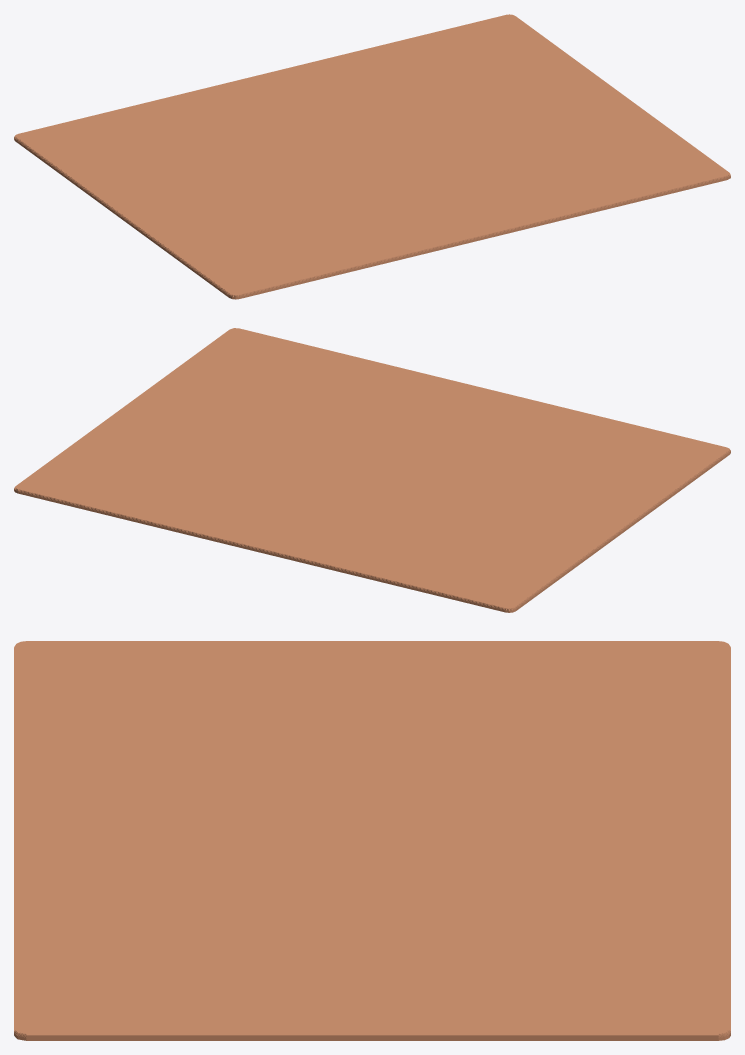
Rendered from SM_Rug_Bedroom.fbx.
3 views of the same model, one above another, from view 1: azimuth 30°, elevation 25°; view 2: azimuth 150°, elevation 25°; view 3: azimuth 270°, elevation 25° (orthographic). The views are drawn at different scales.
Visible parts, largest first — view 1: SM_Rug_Bedroom; view 2: SM_Rug_Bedroom; view 3: SM_Rug_Bedroom.
Part boxes in pixels (bbox=[...]): SM_Rug_Bedroom: bbox=[14, 14, 730, 299]; SM_Rug_Bedroom: bbox=[14, 328, 730, 612]; SM_Rug_Bedroom: bbox=[14, 641, 730, 1040].
Size of the model in its own units: 300 by 2 by 230.
